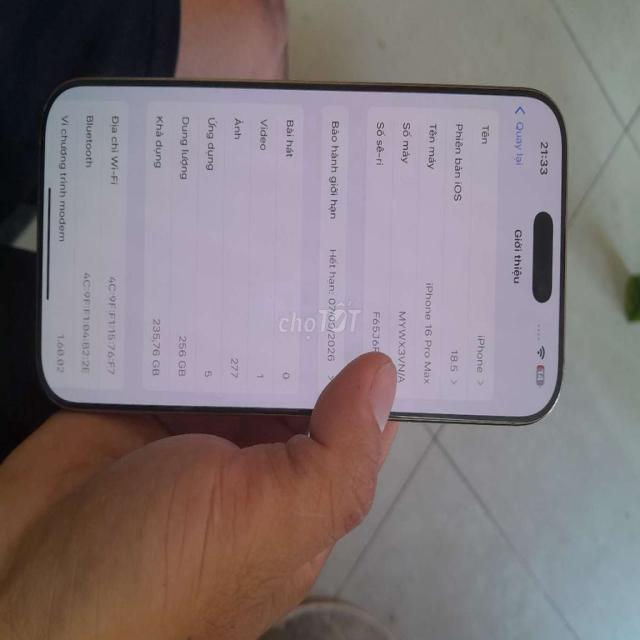gen_16: (32, 78, 567, 423)
